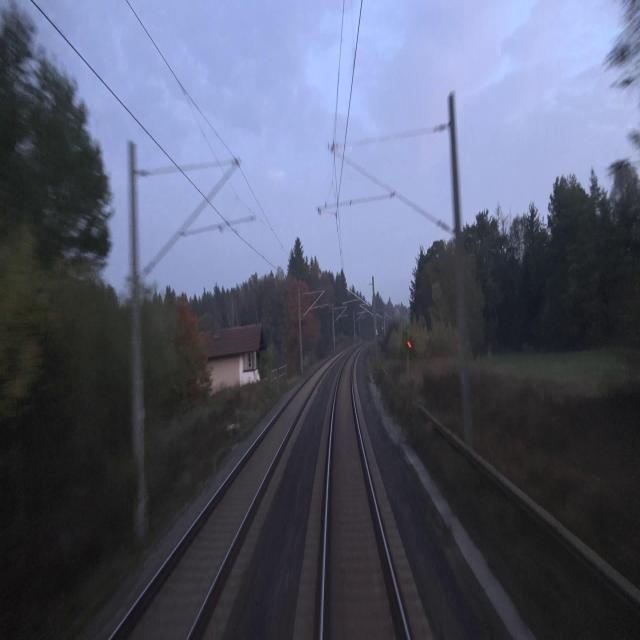rail-track: (111, 362, 327, 639), (323, 351, 405, 639)
